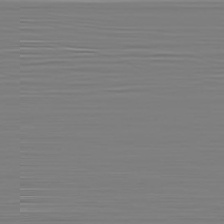cavities: (71, 65, 119, 125)
